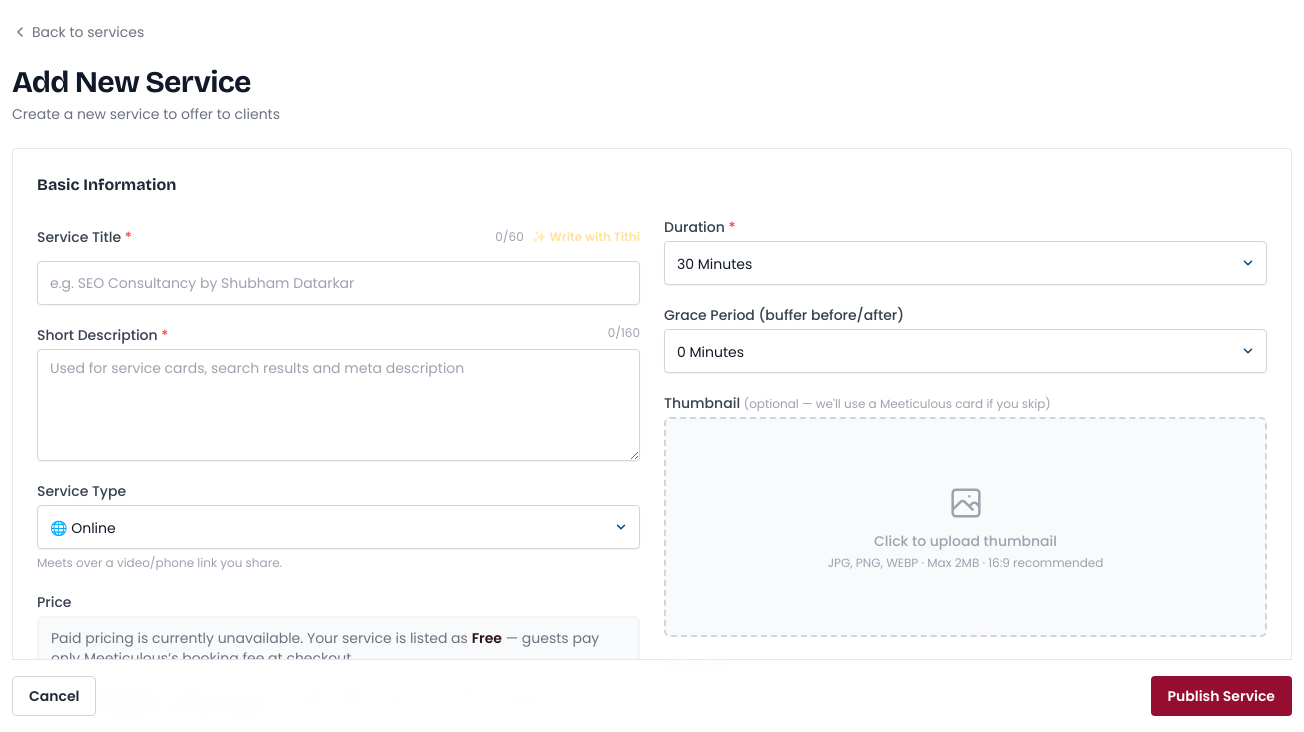
Test: shows cooldown message on 429
Type "SEO" into the field with placeholder "e.g. SEO Consultancy by Shubham Datarkar".
click(338, 283); type("SEO")  # box [37, 261, 640, 305]
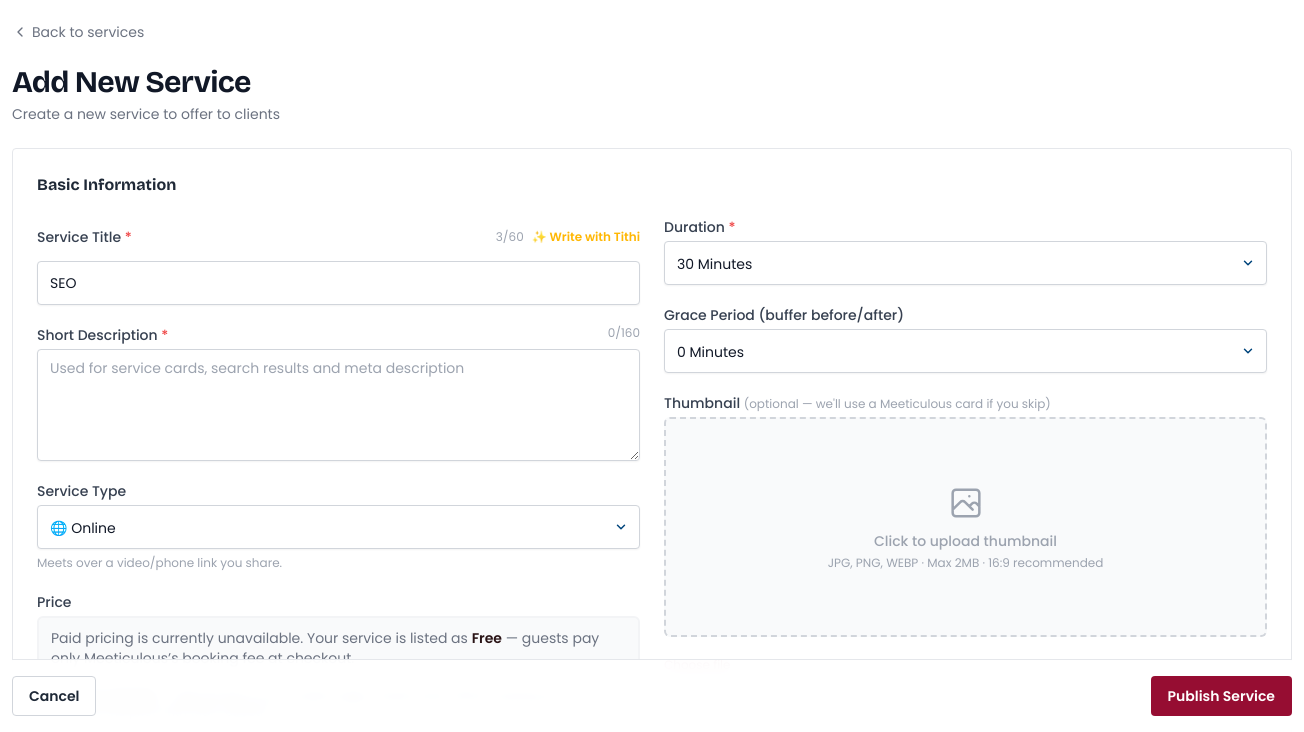
Click the button "✨ Write with Tithi".
click(586, 237)  # box [532, 217, 640, 257]
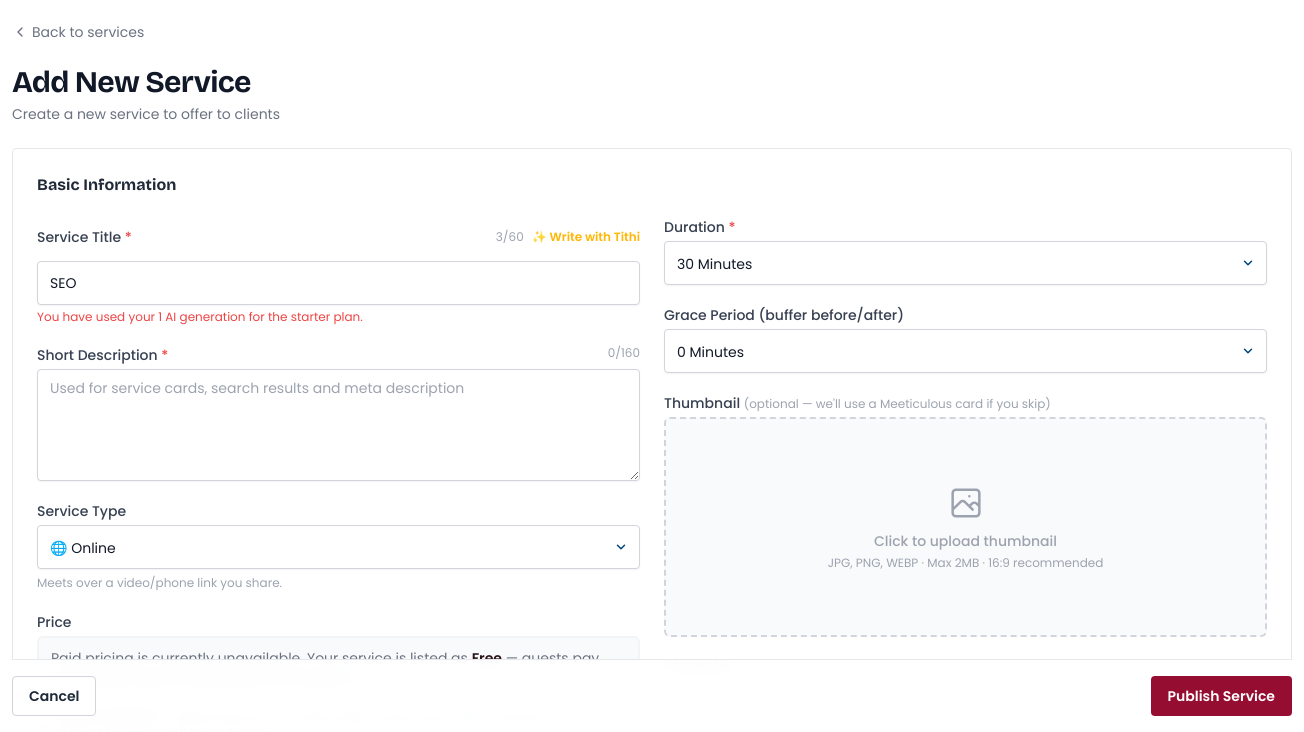
expect the text "You have used your 1 AI generation for the starter plan." is shown: met, box [37, 308, 363, 325]
